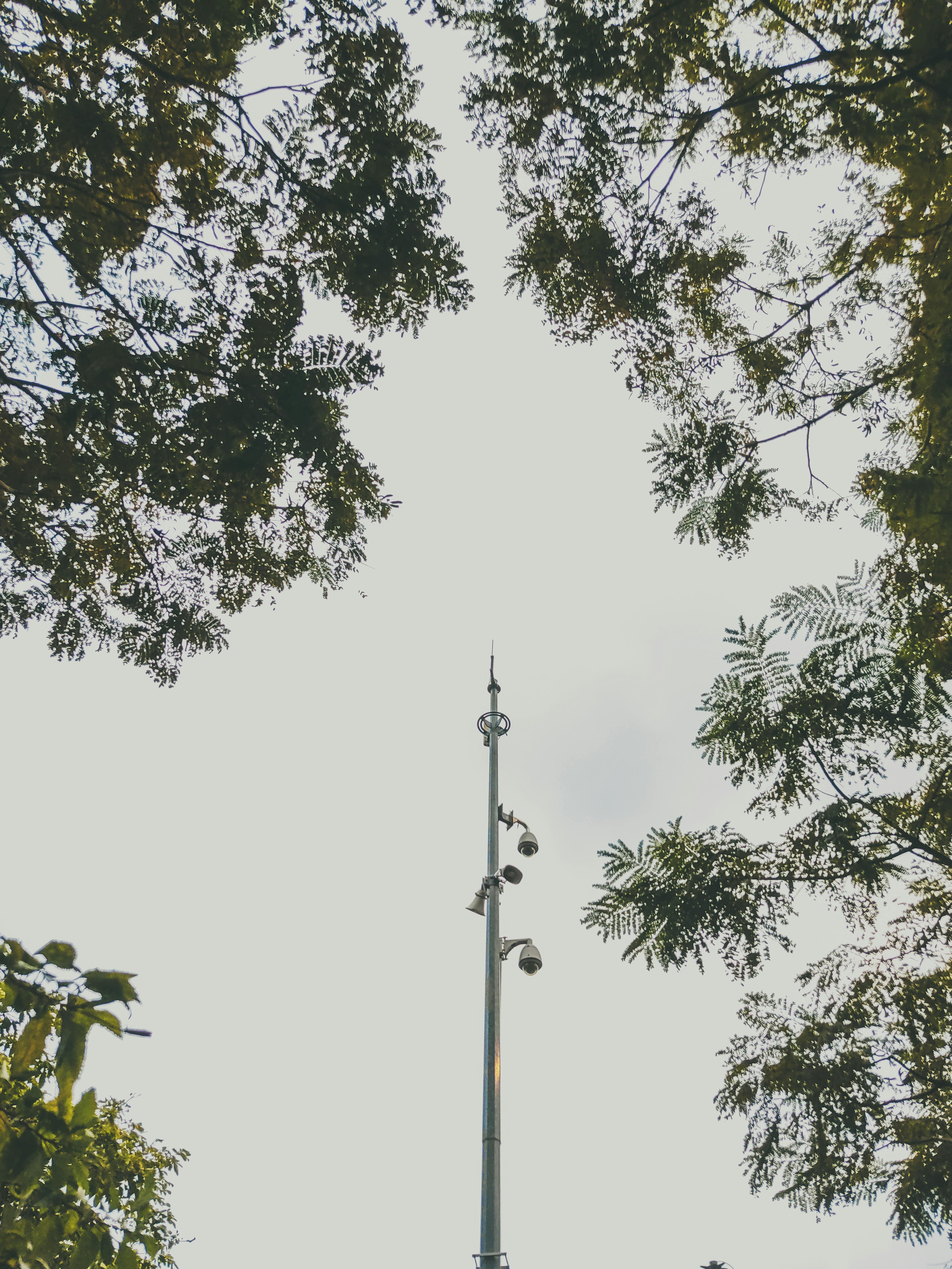camera: (492, 800, 560, 866), (501, 933, 569, 983), (487, 861, 535, 904)
